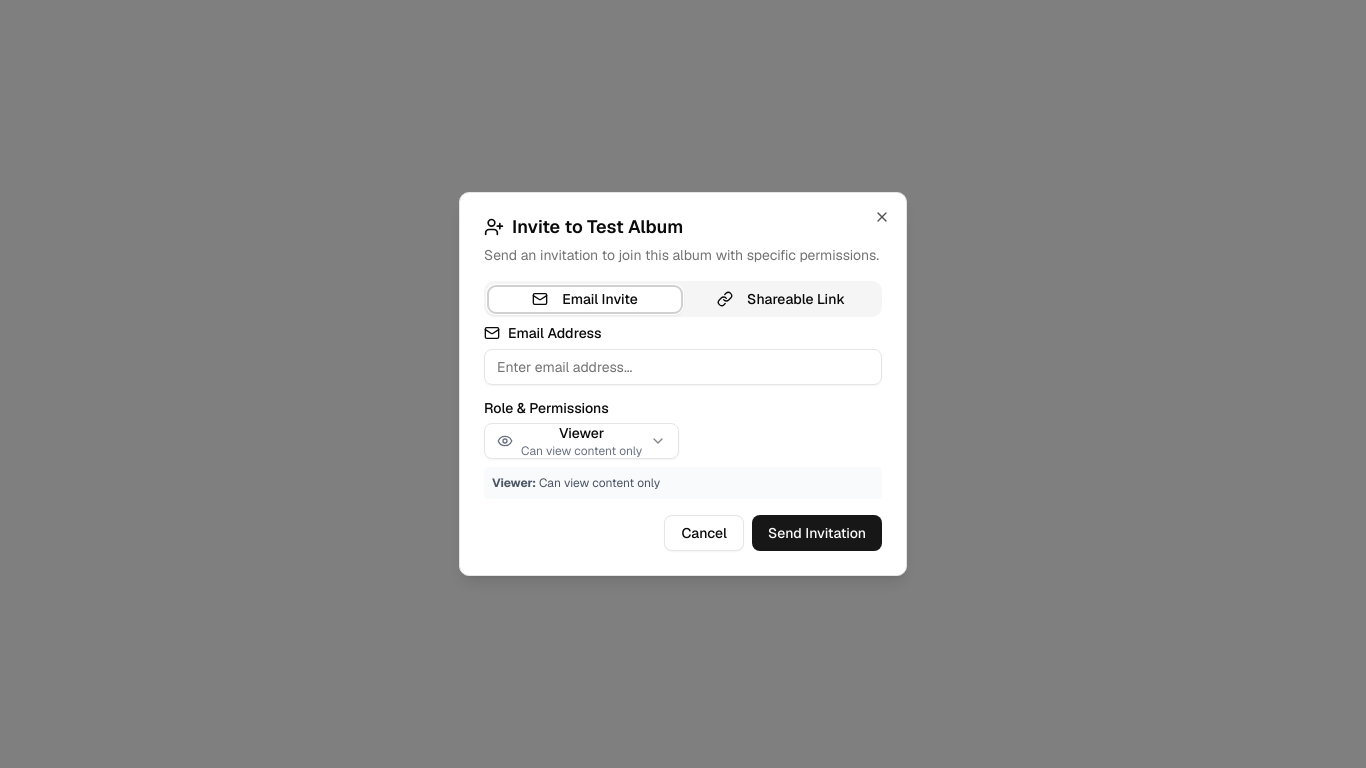
it: InviteModal › Email Invite › validates email input
Type a valid email to test successful submission
In the field labelled "Email Address": (683,367) [484,349,882,385], type "test@example.com"
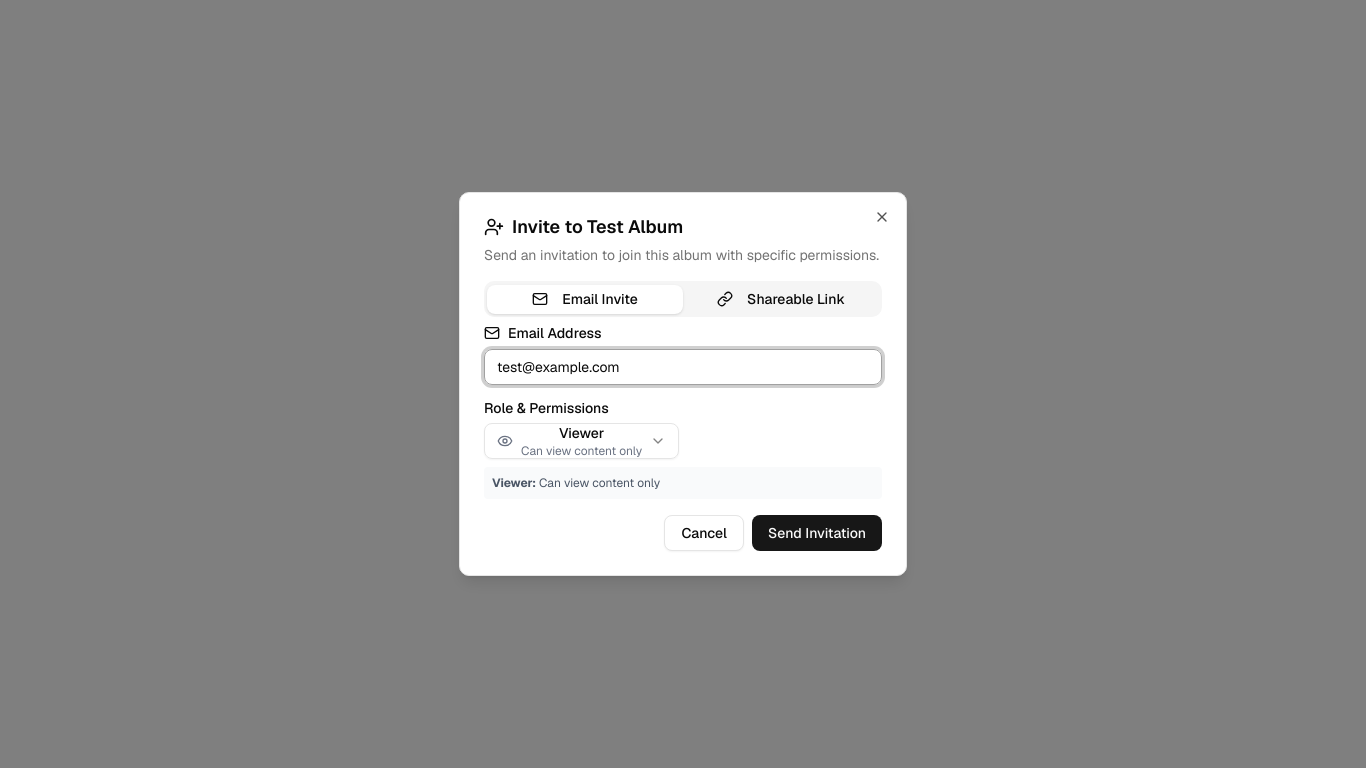
Click the button "Send Invitation": (817,533) [752,515,882,551]
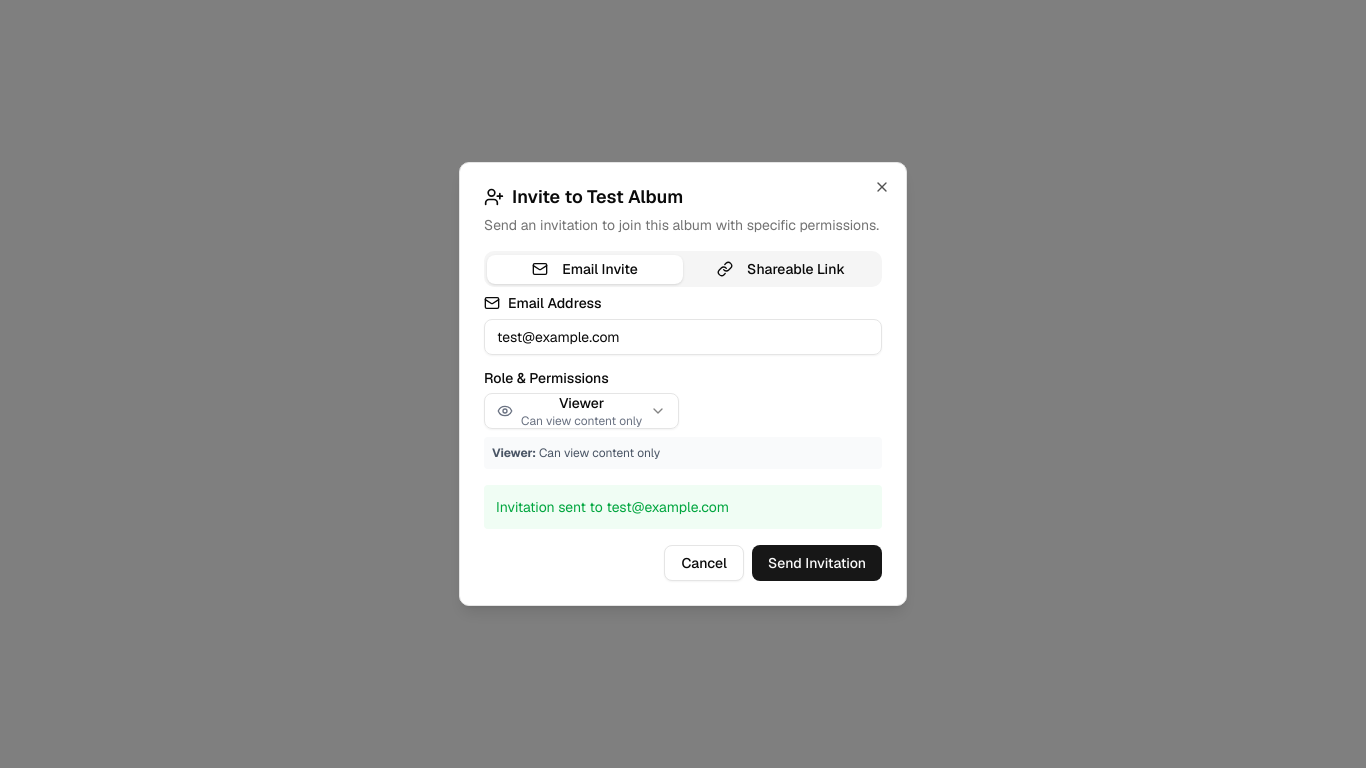
Now the text "Invitation sent to test@example.com" is shown, box [484,485,882,529]
